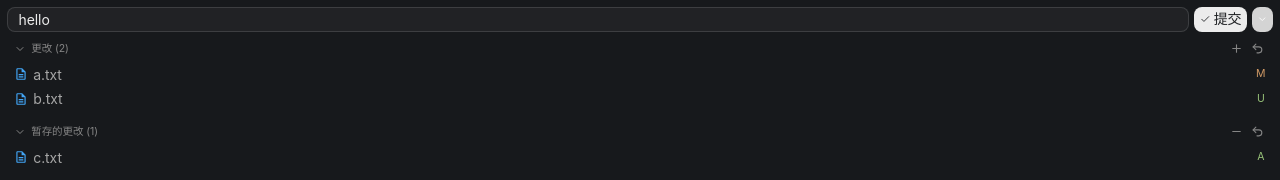
Test: ChangesSection › shows progress on stage-all until the operation settles
The image size is (1280, 180).
Click the button with test id "stage-all" at (1236, 49), box top-left (1228, 40), bottom-right (1244, 57)
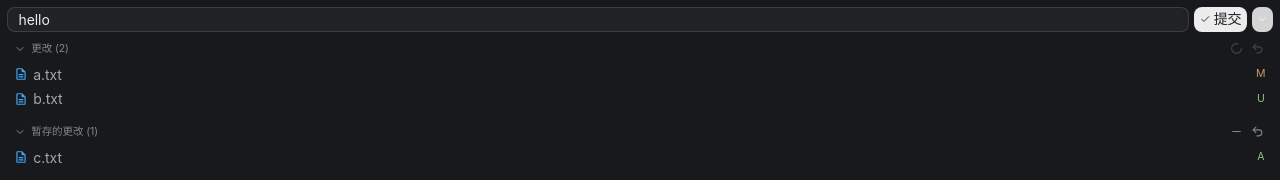
Expected: the icon with class "animate-spin" is shown, top-left (1230, 42), bottom-right (1242, 55)
Expected: the button with test id "stage-all" is disabled
Click the button with test id "stage-all" at (1236, 49), box top-left (1228, 40), bottom-right (1244, 57)
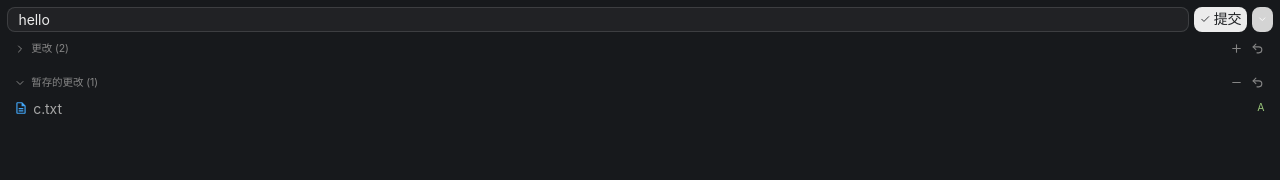
Expected: the icon with class "animate-spin" is gone
Expected: the button with test id "stage-all" is enabled, top-left (1228, 40), bottom-right (1244, 57)
